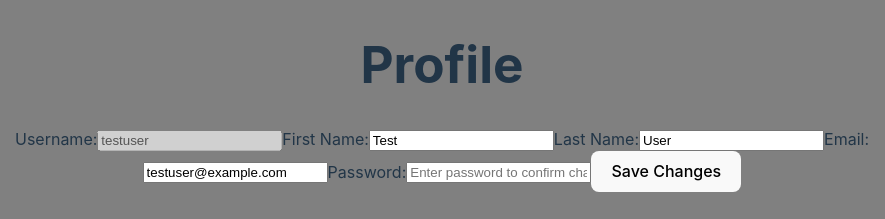
Test: Profile Component › displays a success message after updating the profile
Type "password123" into the password field labelled "Password:" at (499, 173), box left=406, top=162, right=591, bottom=184
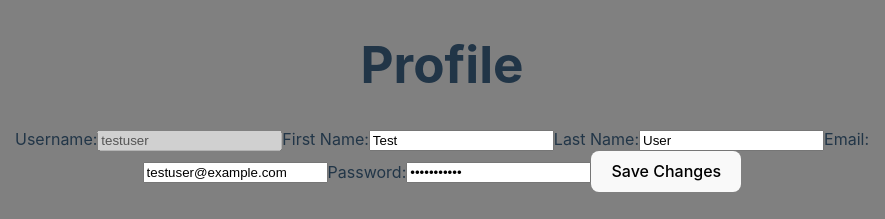
Click the button "Save Changes" at (666, 172), box left=591, top=151, right=741, bottom=192
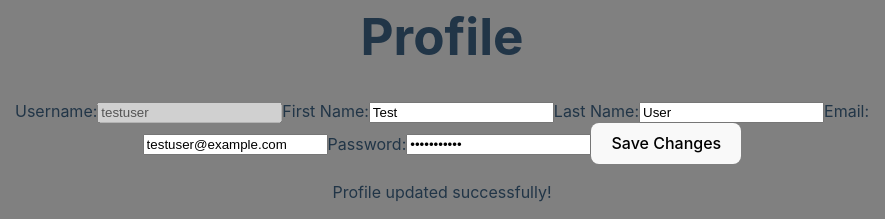
Now the text "Profile updated successfully!" is shown, box left=332, top=182, right=552, bottom=202
